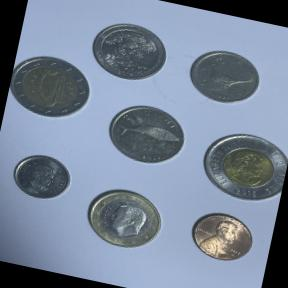coin: (189, 117, 288, 212), (75, 178, 175, 260), (98, 94, 194, 178), (3, 48, 97, 129), (82, 13, 176, 89), (180, 202, 262, 270), (5, 144, 79, 208)
